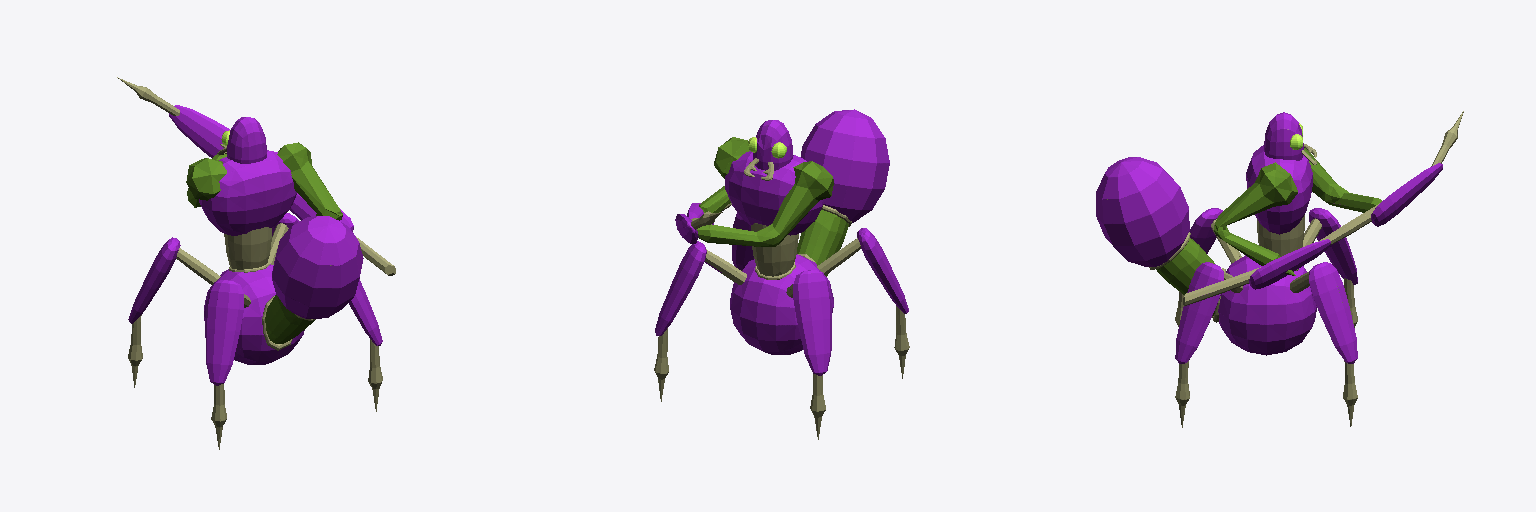
The picture shows the model from 3 angles: view 1: azimuth 30°, elevation 25°; view 2: azimuth 150°, elevation 25°; view 3: azimuth 270°, elevation 25°; orthographic projection.
Visible parts, largest first — view 1: Cube.003_Cube.005; view 2: Cube.003_Cube.005; view 3: Cube.003_Cube.005.
Boxes of the visible parts, <box> form: Cube.003_Cube.005: <box>117,77,395,449</box>; Cube.003_Cube.005: <box>654,109,909,439</box>; Cube.003_Cube.005: <box>1096,111,1463,427</box>.
Size of the model in its own units: 4 by 5.73 by 6.88.
Materials: 1 (1 with a texture image).